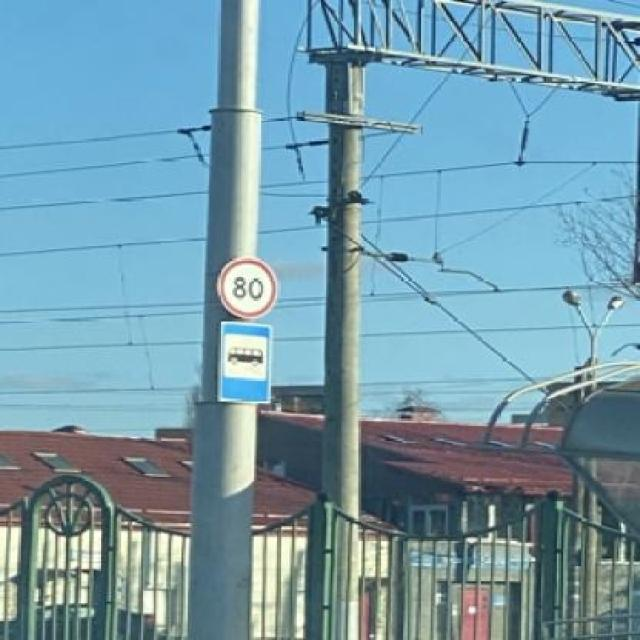forb_speed_over_80: (218, 258, 276, 320)
